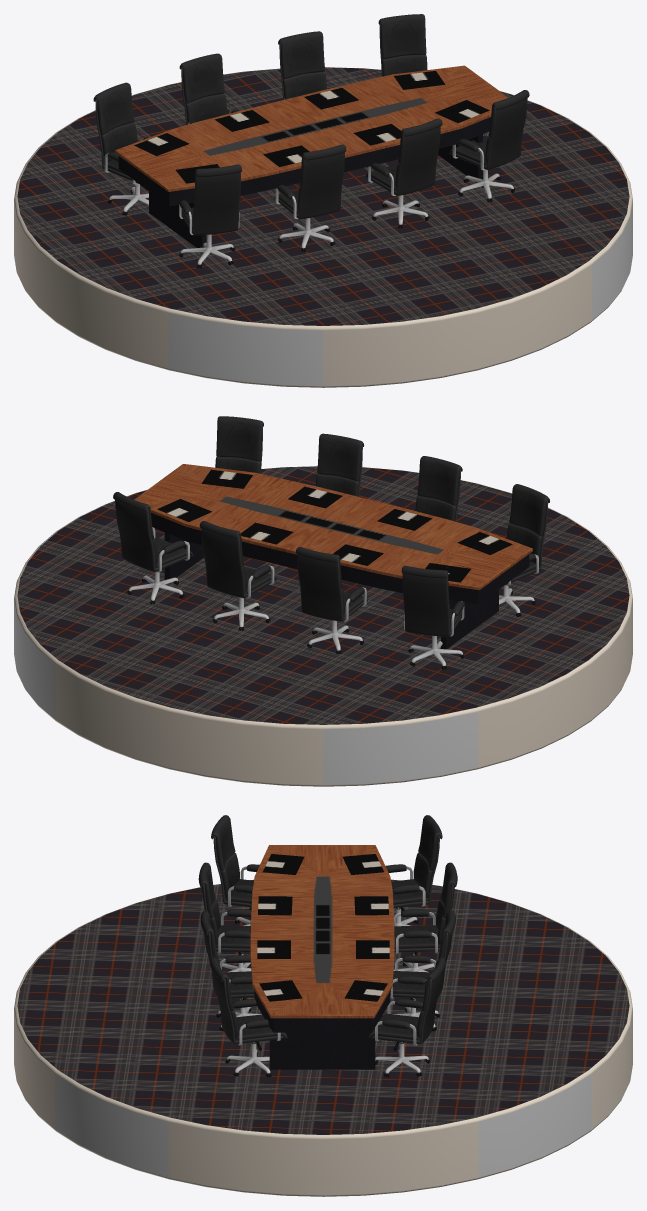
File: Mini Model 01.fbx
3 views of the same model, one above another, from view 1: azimuth 30°, elevation 25°; view 2: azimuth 150°, elevation 25°; view 3: azimuth 270°, elevation 25° (orthographic).
Visible parts, largest first — view 1: BASE, ChairMeeting, prop_SMN_Notebook8; view 2: BASE, prop_SMN_Notebook8, ChairMeeting; view 3: BASE, prop_SMN_Notebook8, ChairMeeting.
Part boxes in pixels (x1=…): BASE: x1=14, y1=67, x2=632, y2=387; ChairMeeting: x1=93, y1=14, x2=529, y2=268; prop_SMN_Notebook8: x1=115, y1=65, x2=508, y2=247; BASE: x1=14, y1=466, x2=632, y2=786; prop_SMN_Notebook8: x1=134, y1=464, x2=532, y2=649; ChairMeeting: x1=113, y1=416, x2=549, y2=669; BASE: x1=14, y1=879, x2=632, y2=1196; prop_SMN_Notebook8: x1=250, y1=845, x2=394, y2=1069; ChairMeeting: x1=198, y1=815, x2=457, y2=1077.
Bounding box in the file's own units: 703 × 210 × 703.
